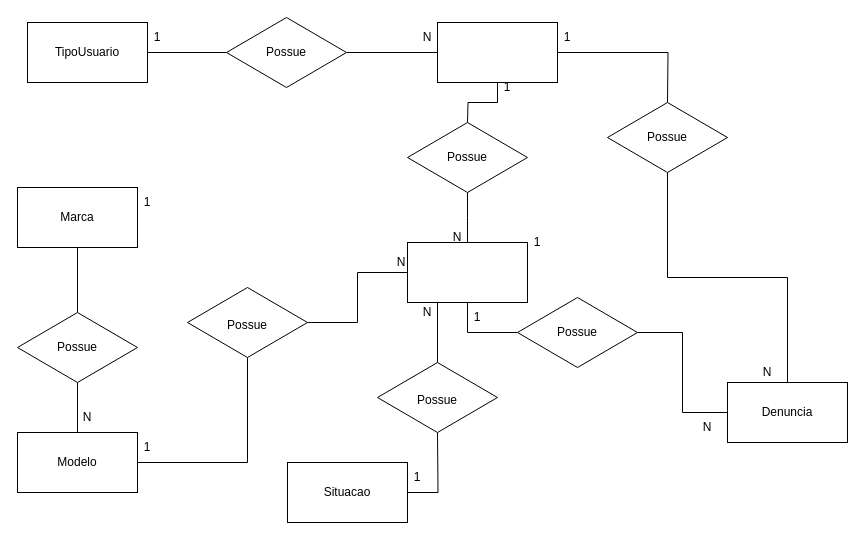
This 865x540 diagram has some shape labels left out. Each missing label, with the centre of its shape:
"Produtos" belongs at [467,272].
"Usuarios" belongs at [497,52].
